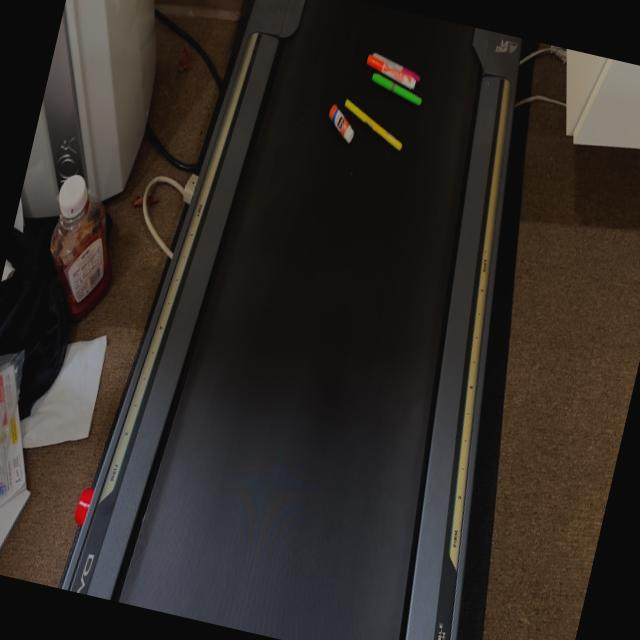Trash: (322, 93, 412, 158), (357, 48, 432, 108)
